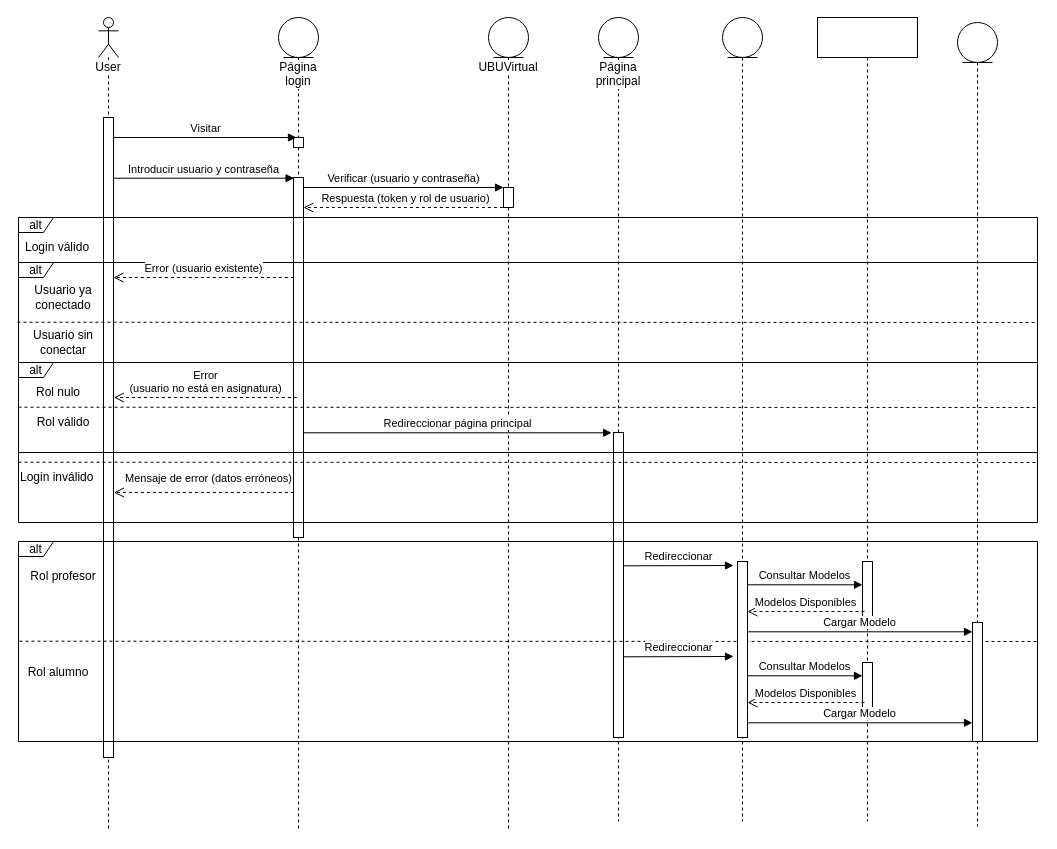
Image size: 1057x849. Some labels were removed from this diagram. The shapes that lost their labels are listed below. From the top down, each one's box as (x1, y1, x2, y2) in pixels, then its label:
(722, 16, 762, 822): Estantería de modelos
(816, 16, 918, 822): Modelos
(956, 22, 998, 826): Visor de Modelos
